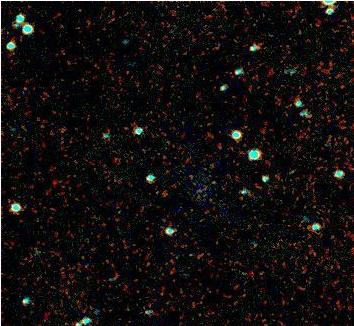star: (12, 286, 42, 316)
